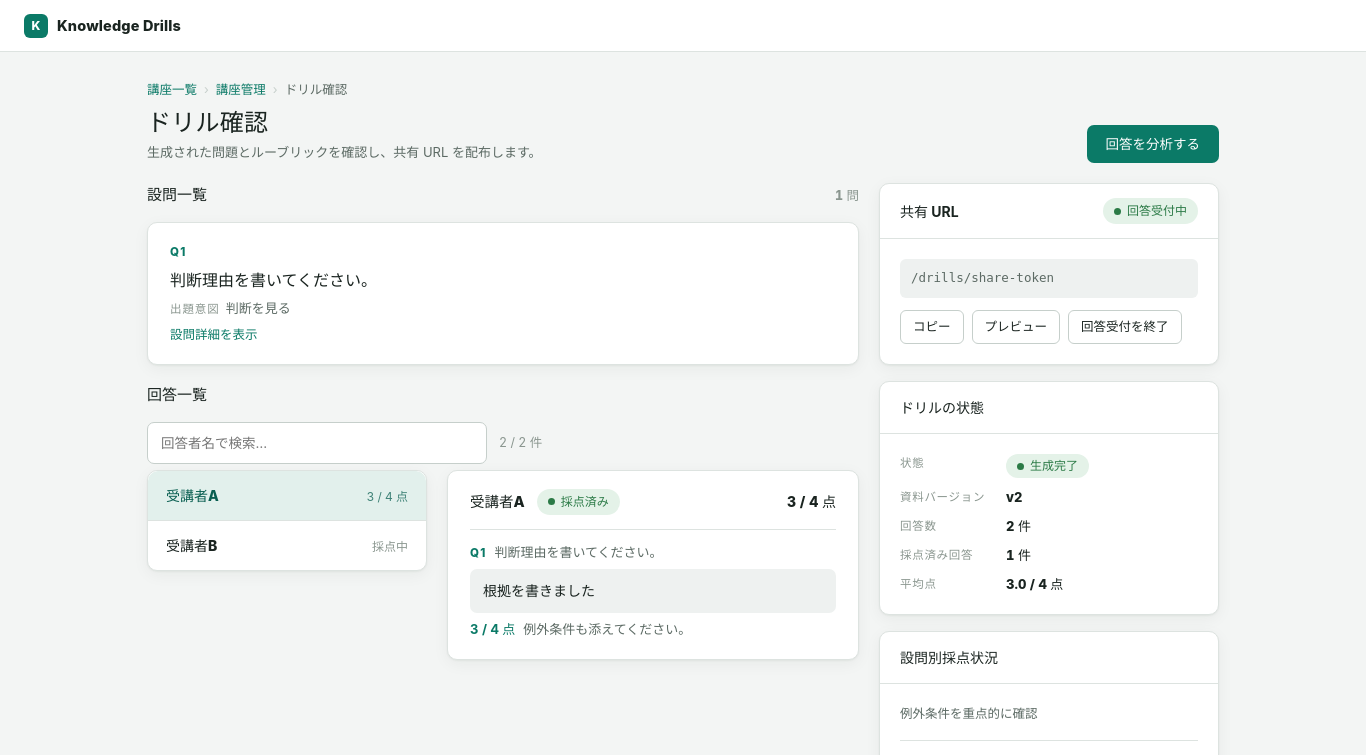
Test: DrillAdminPage › switches selected answer and filters by learner name
Click the button "受講者B 採点中".
click(192, 546)  # box top-left (148, 521), bottom-right (426, 570)
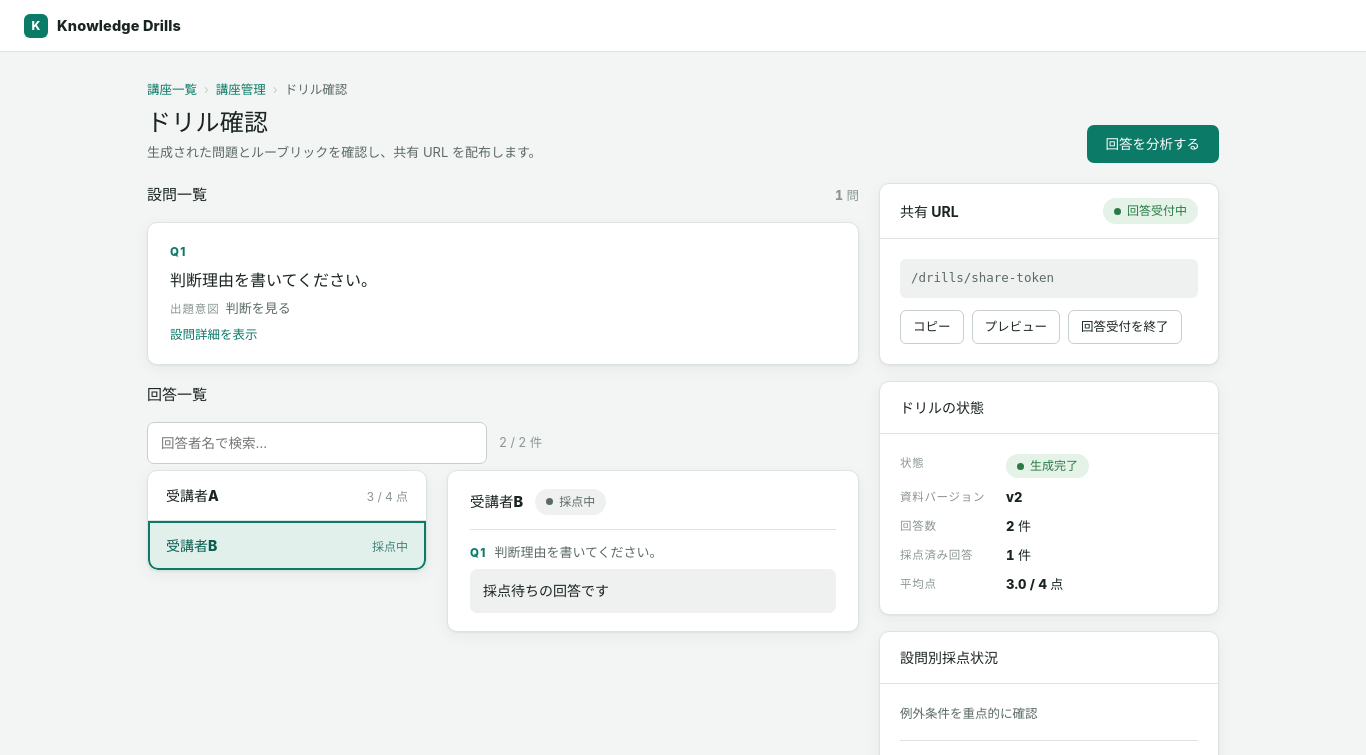
Expected: the 2nd text "採点中" is shown, top-left (372, 537), bottom-right (408, 557)
Now the text "採点待ちの回答です" is shown, box top-left (470, 569), bottom-right (836, 613)
Type "受講者A" into the search field labelled "回答者名で検索".
click(317, 443); type("受講者A")  # box top-left (147, 422), bottom-right (487, 464)
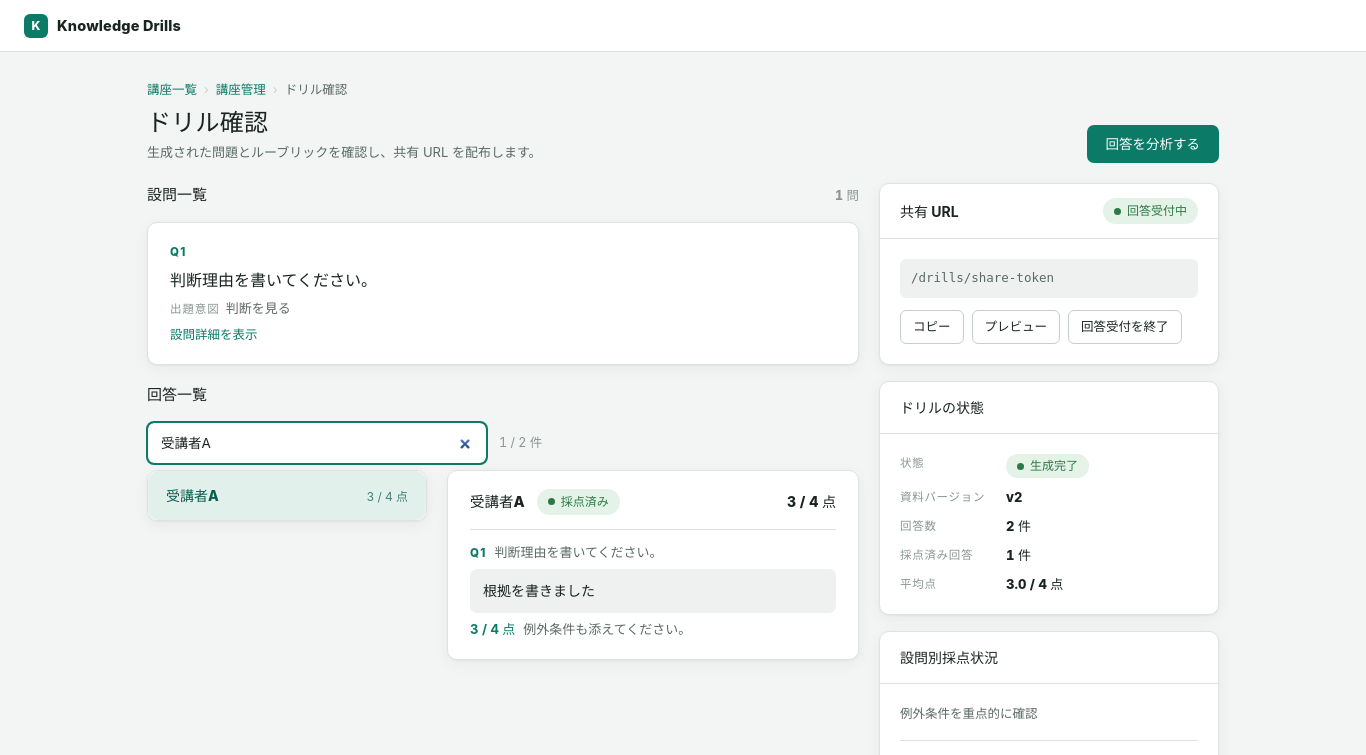
Now the text "1 / 2 件" is shown, box top-left (499, 433), bottom-right (542, 453)
Now the button "受講者B" is gone
